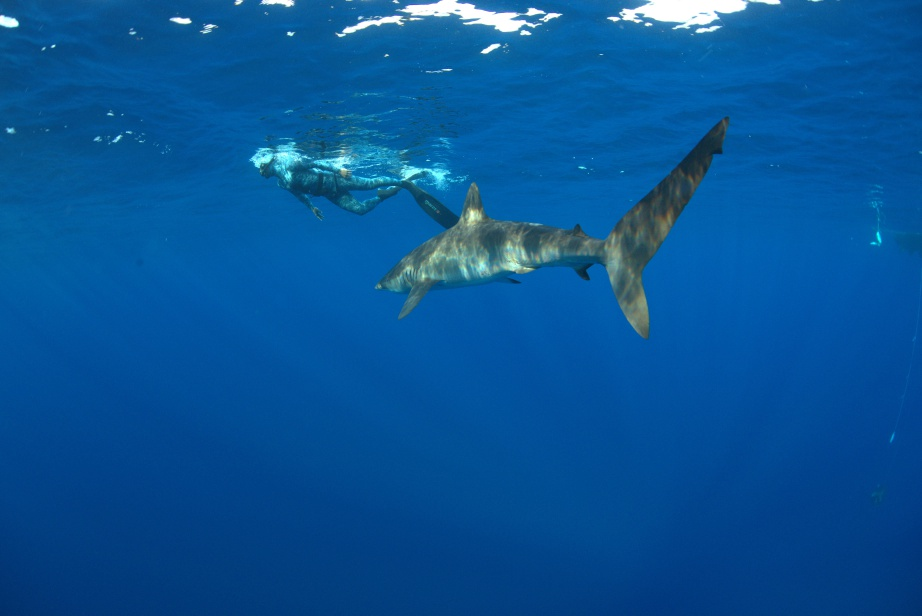Sedoso: (349, 112, 740, 344)
